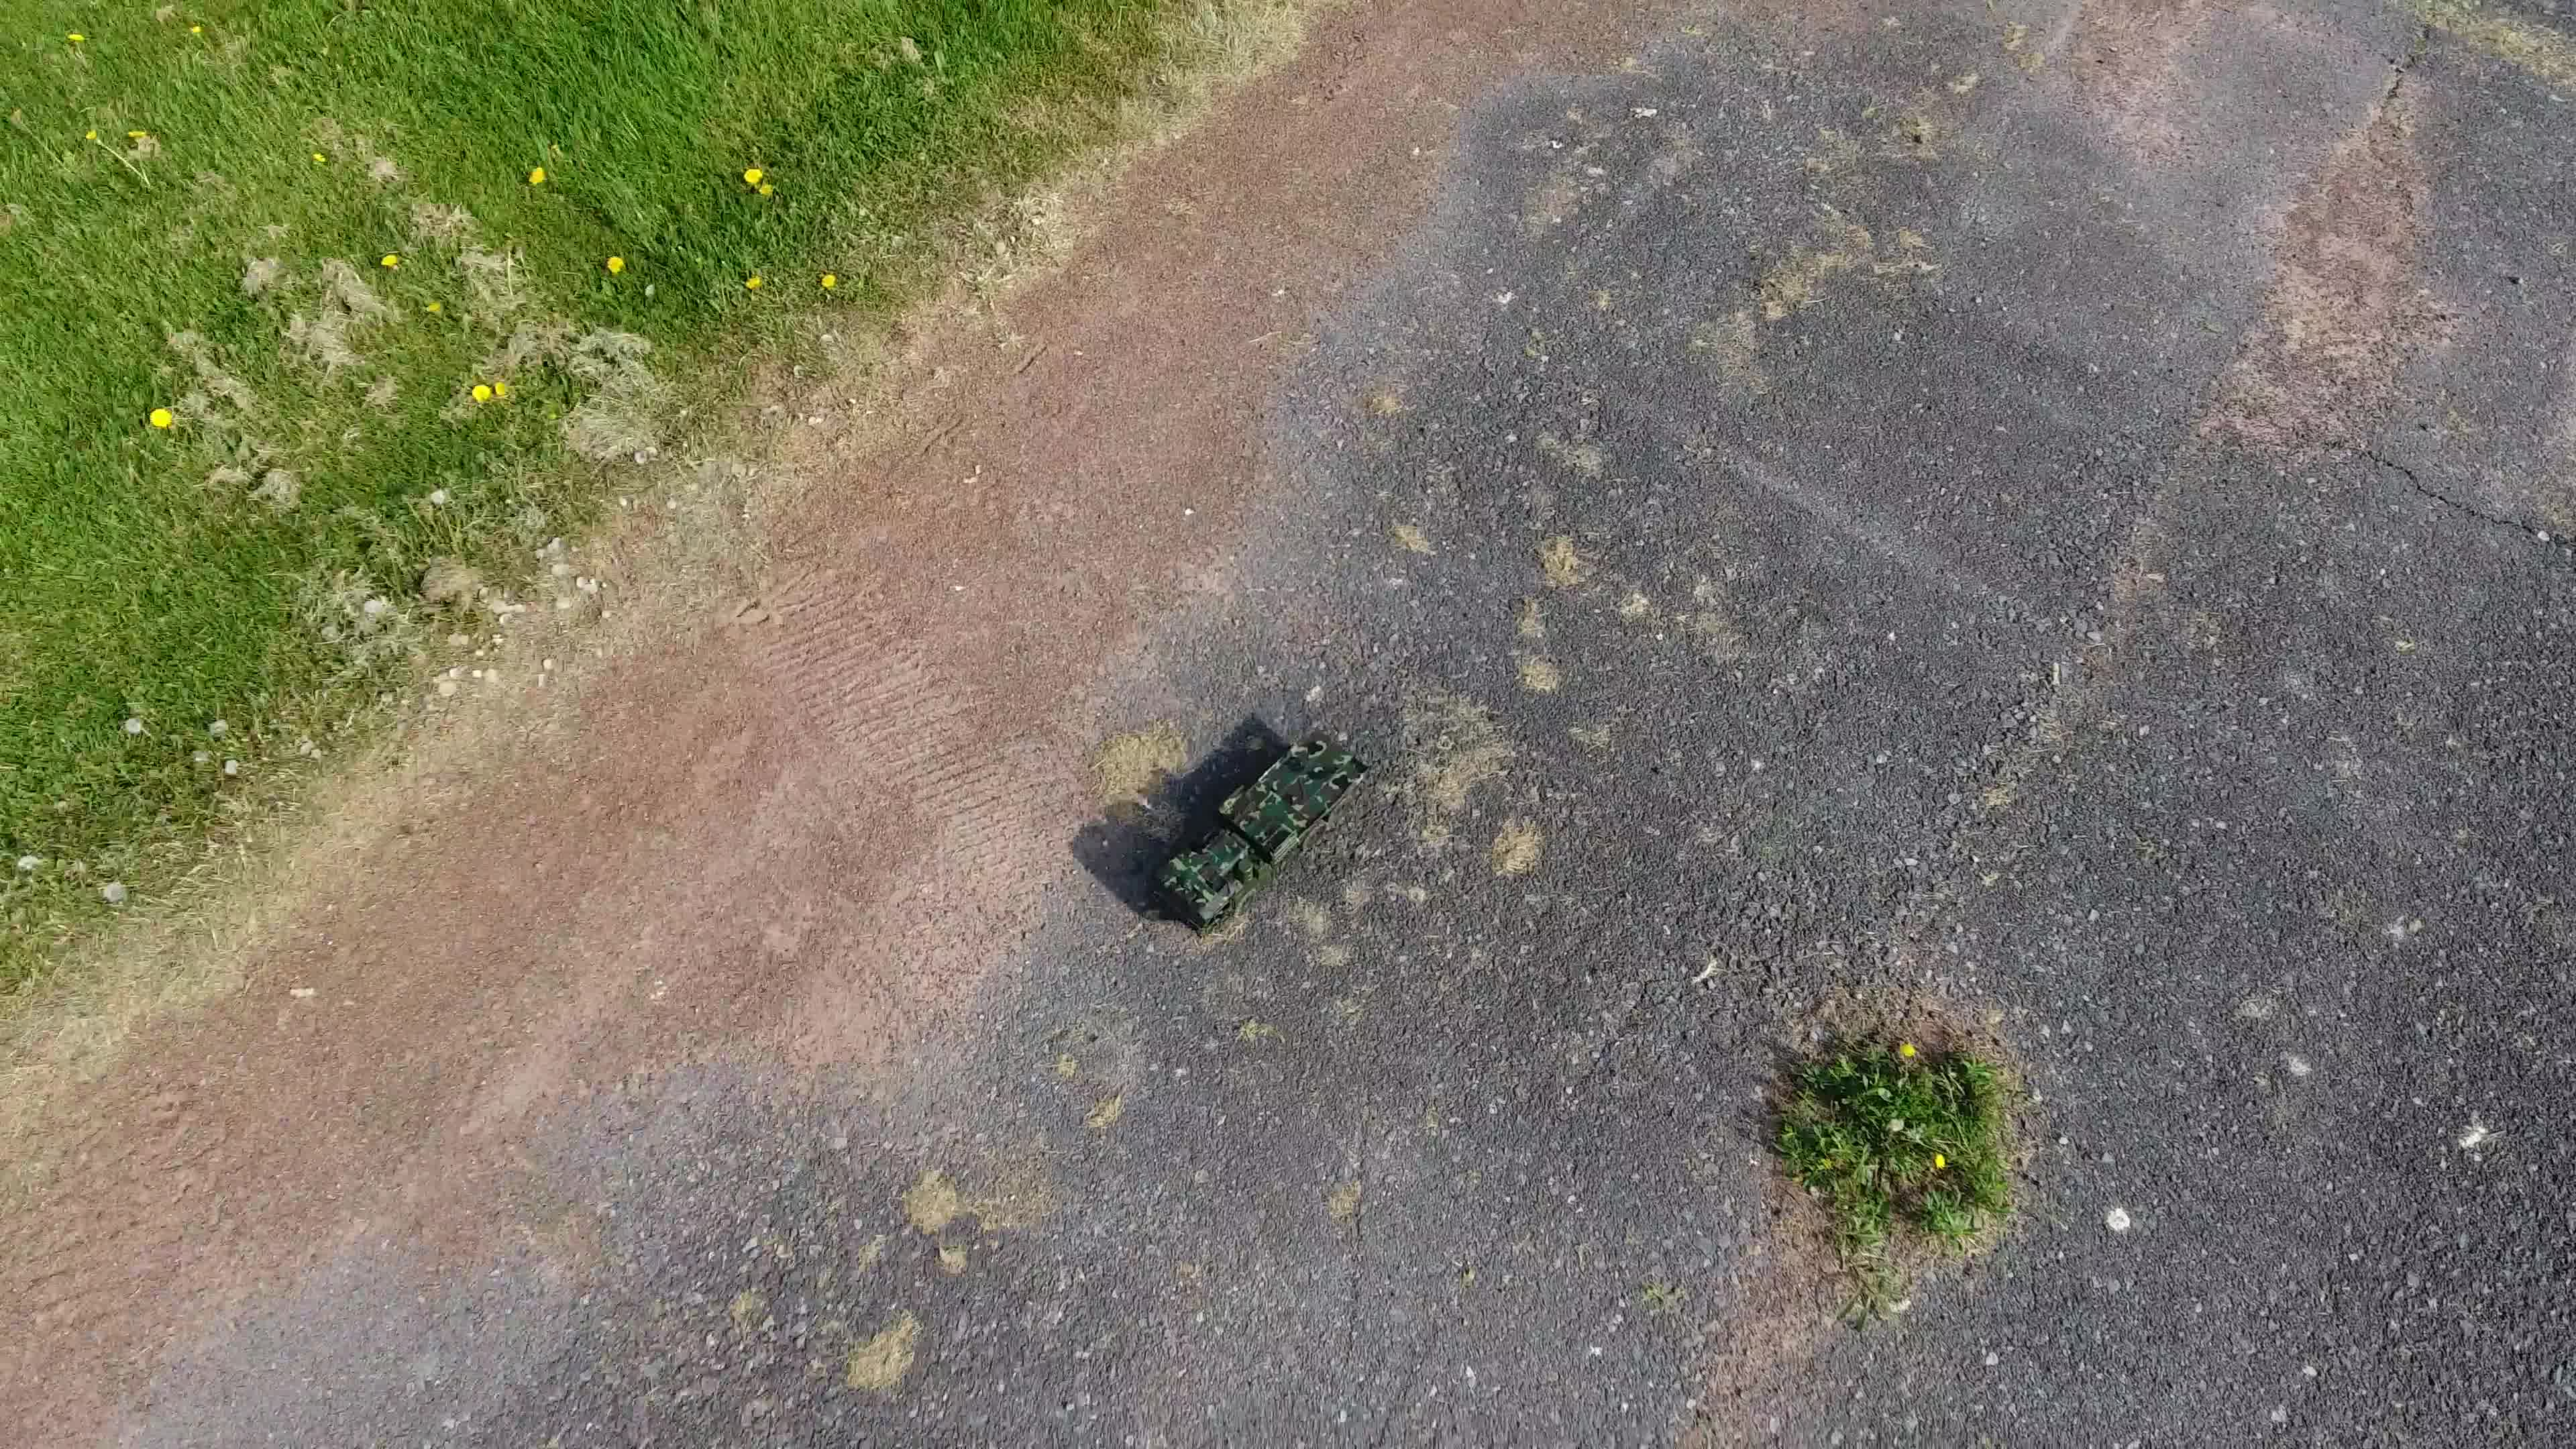transporter9_camo: (1146, 722, 1376, 936)
